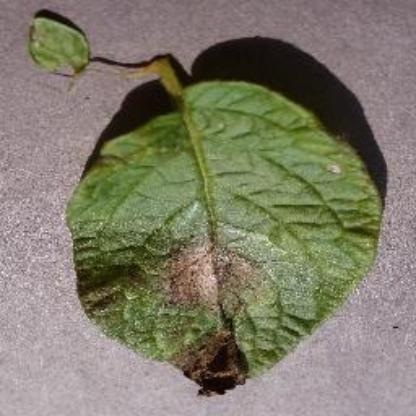Late-Blight: (22, 14, 398, 402)
